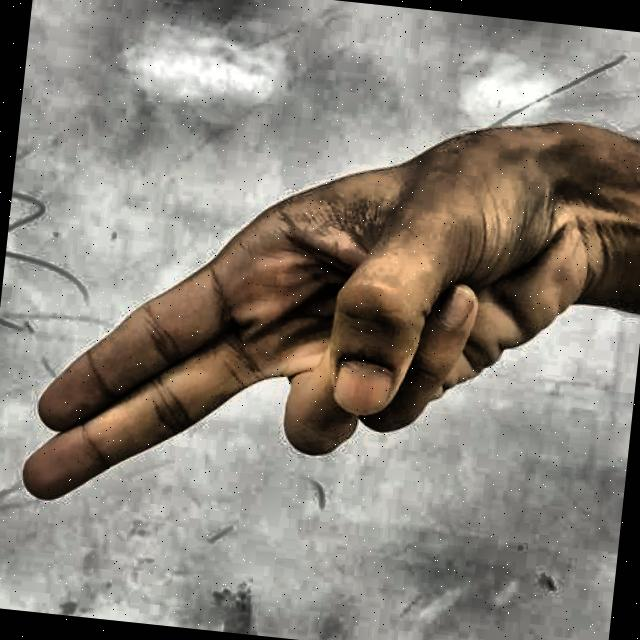Ha: (0, 16, 635, 637)
